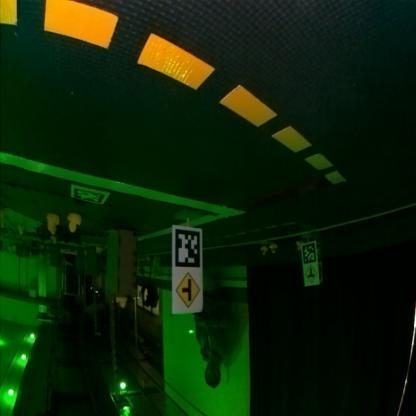Duckie: (68, 213, 82, 234), (46, 214, 59, 232), (270, 245, 279, 254), (262, 248, 268, 256)
Intersection sign: (176, 274, 200, 310), (306, 266, 318, 285)
QR code: (176, 231, 200, 268), (72, 184, 110, 206), (302, 244, 317, 264)
